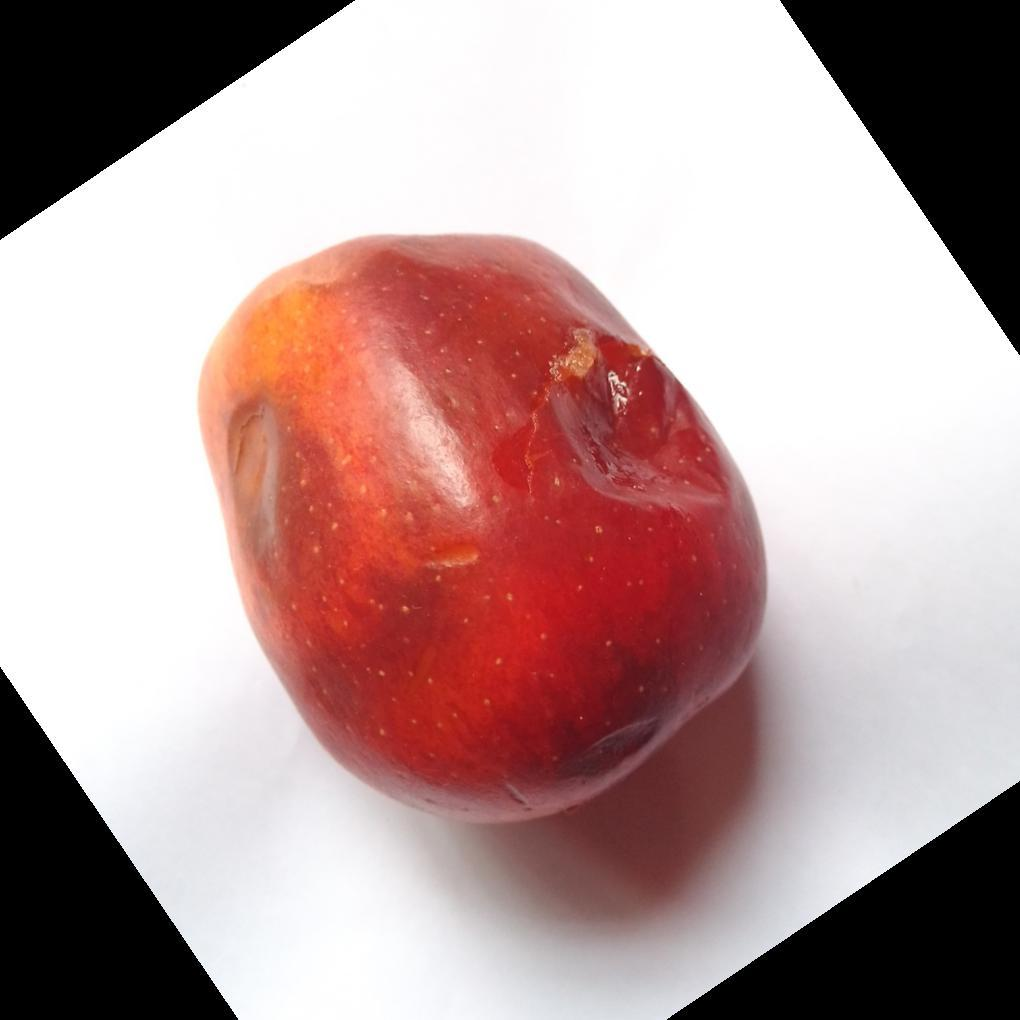FreshOrange: (193, 235, 769, 831)
